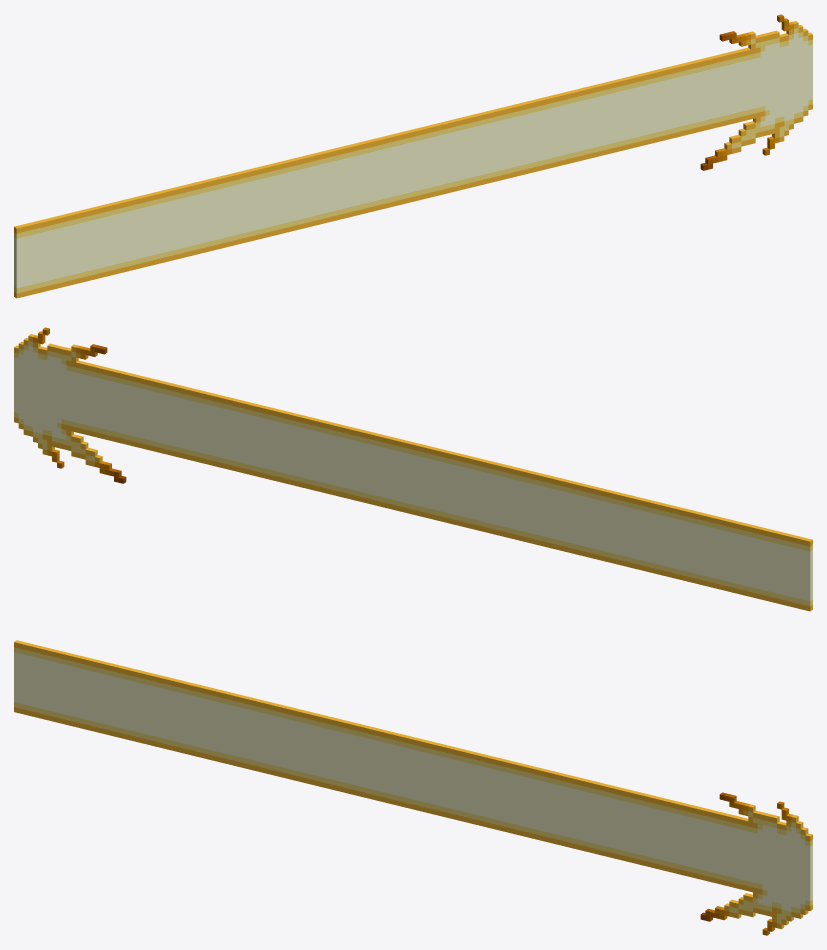
The model's file is Fight_009_2_08_fx.obj.
3 renders of one model, top to bottom at view 1: azimuth 30°, elevation 25°; view 2: azimuth 150°, elevation 25°; view 3: azimuth 330°, elevation 25°, orthographic.
Size of the model in its own units: 16.7 by 2.7 by 0.1.
1 material, 1 textured.
